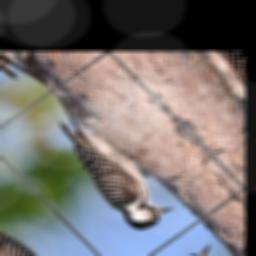Woodpecker: (18, 84, 188, 241)
